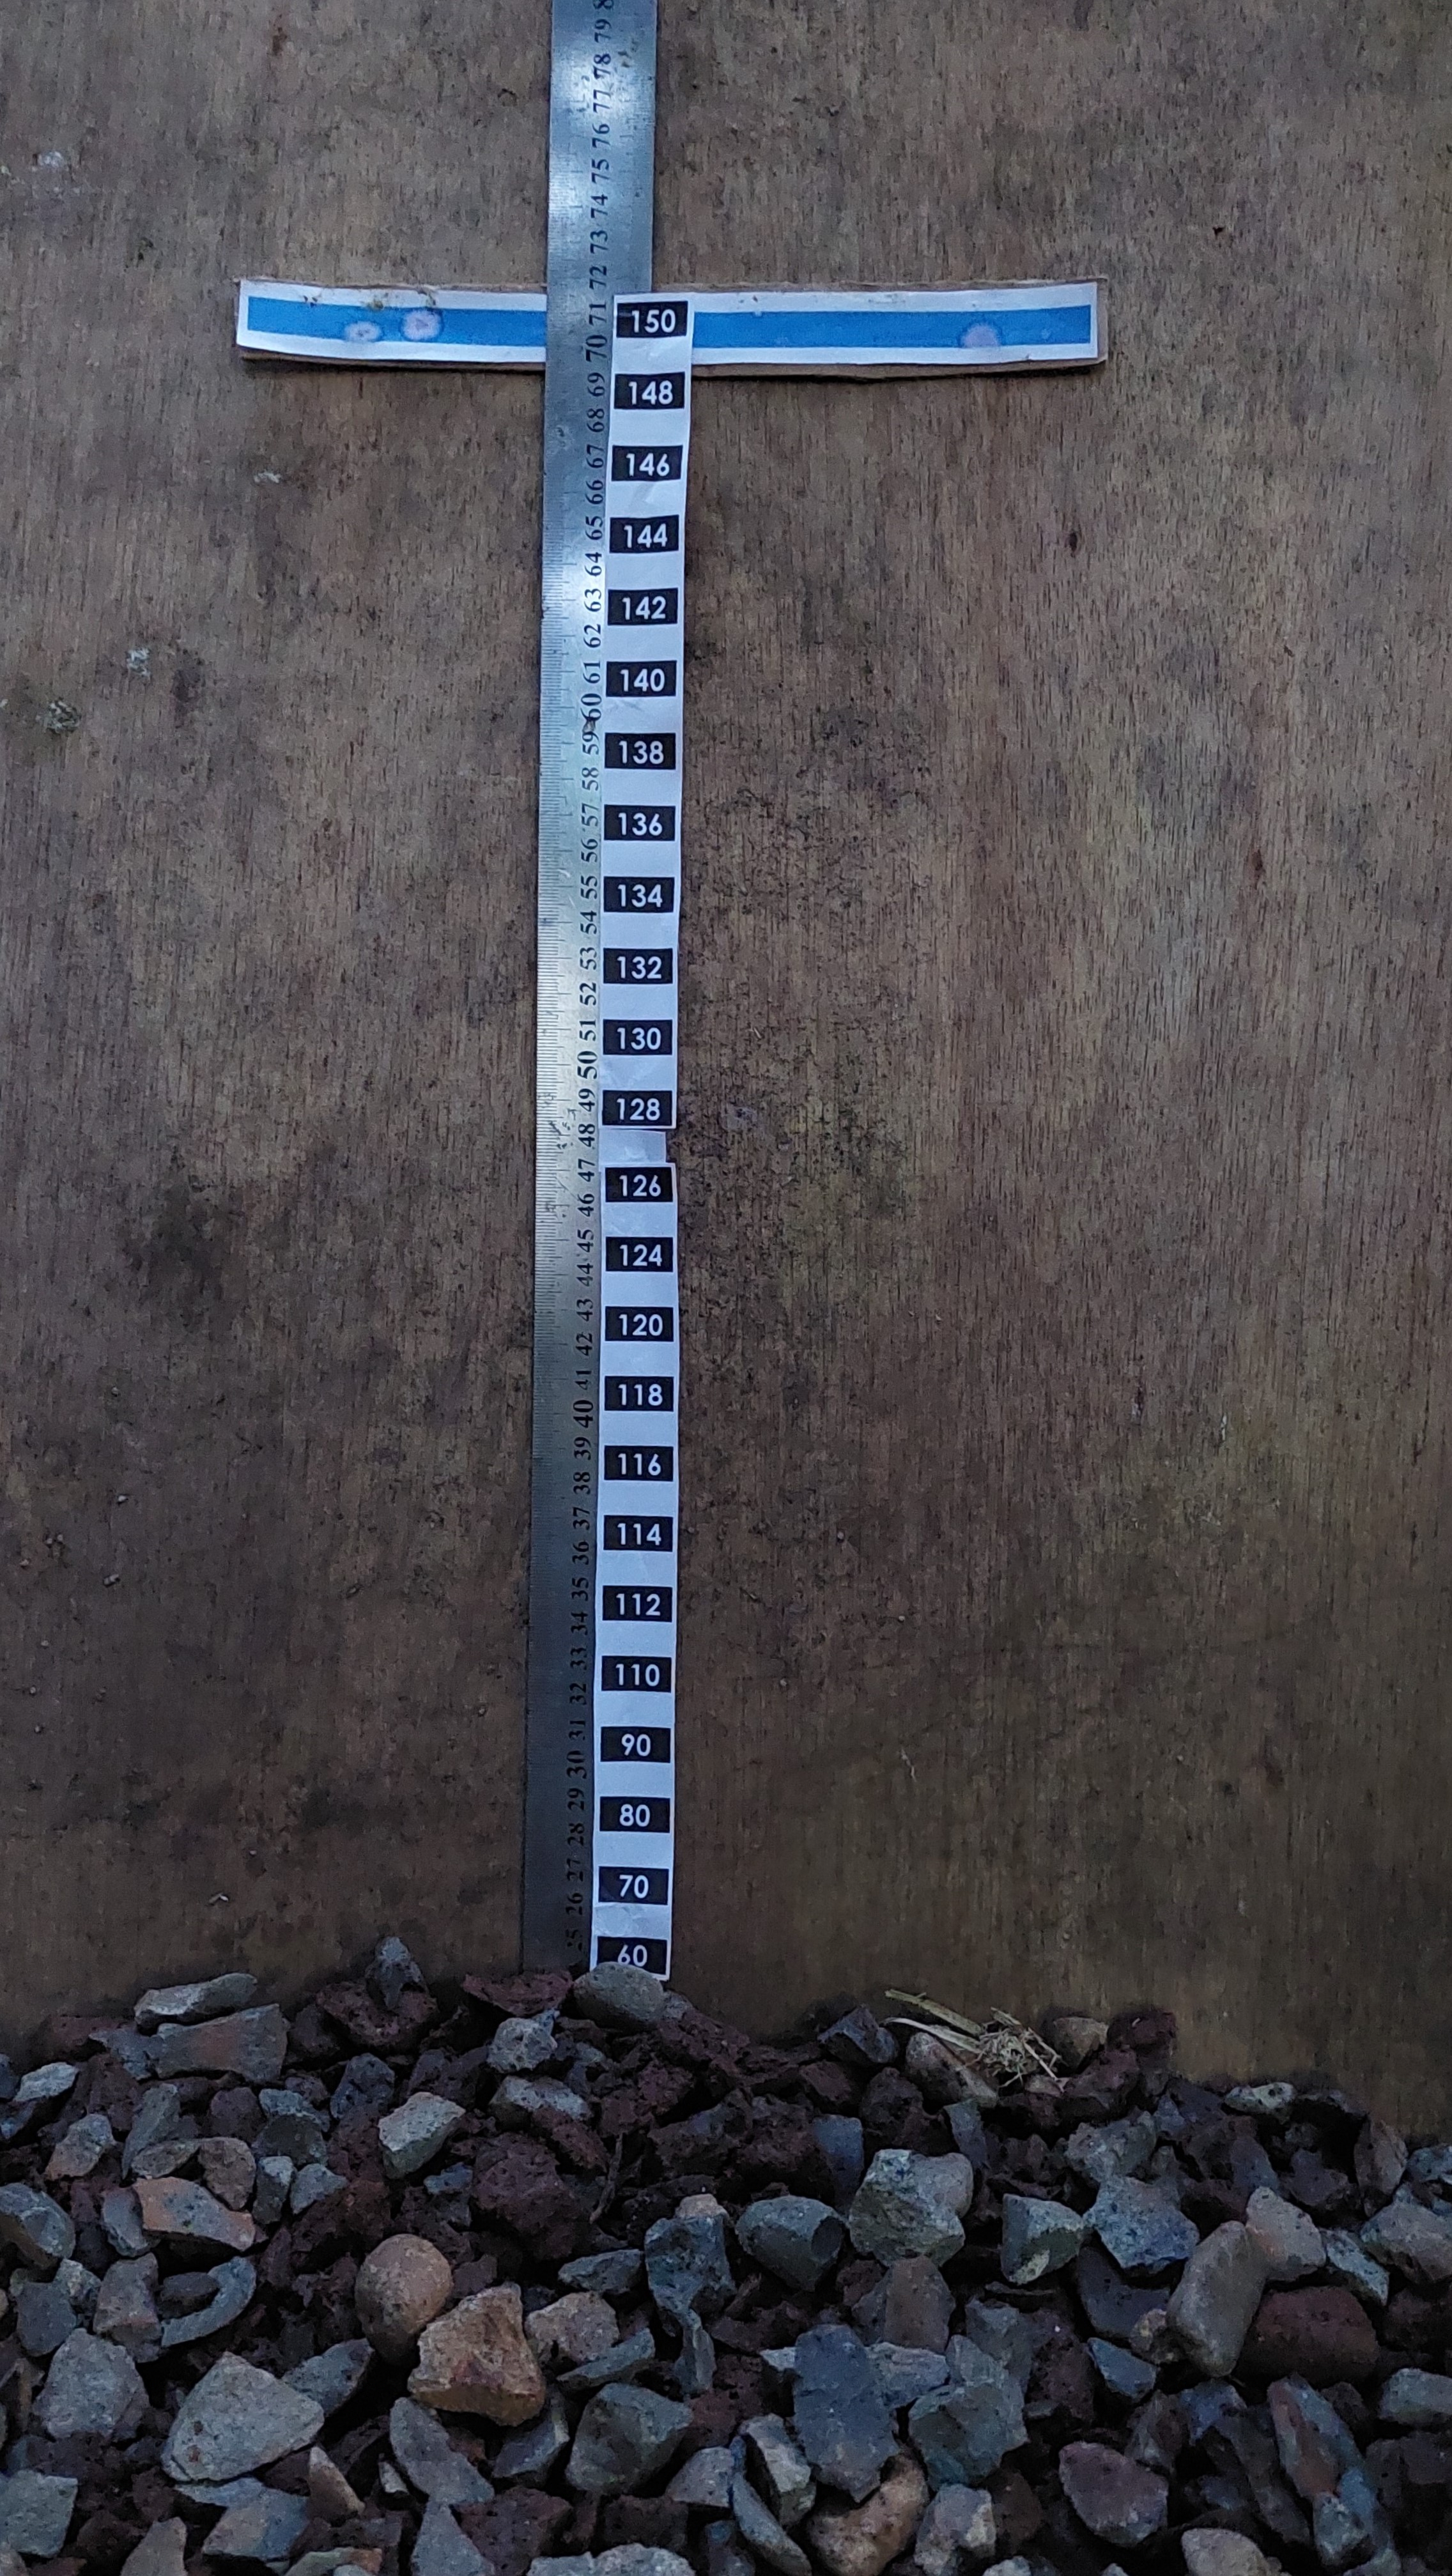kotak_2x1: (614, 299, 689, 343), (604, 729, 678, 771), (613, 370, 685, 410), (607, 586, 678, 626), (602, 1583, 673, 1624), (602, 1654, 673, 1695), (606, 660, 678, 699), (602, 874, 675, 913), (604, 947, 673, 987), (604, 1235, 675, 1274), (599, 1865, 669, 1904), (604, 805, 676, 842), (602, 1444, 675, 1481), (611, 444, 682, 481), (602, 1088, 673, 1125), (602, 1166, 673, 1203), (600, 1725, 671, 1762), (600, 1796, 671, 1833), (602, 1513, 671, 1550), (611, 515, 676, 554), (604, 1019, 673, 1054), (604, 1375, 673, 1410), (606, 1306, 673, 1341)
